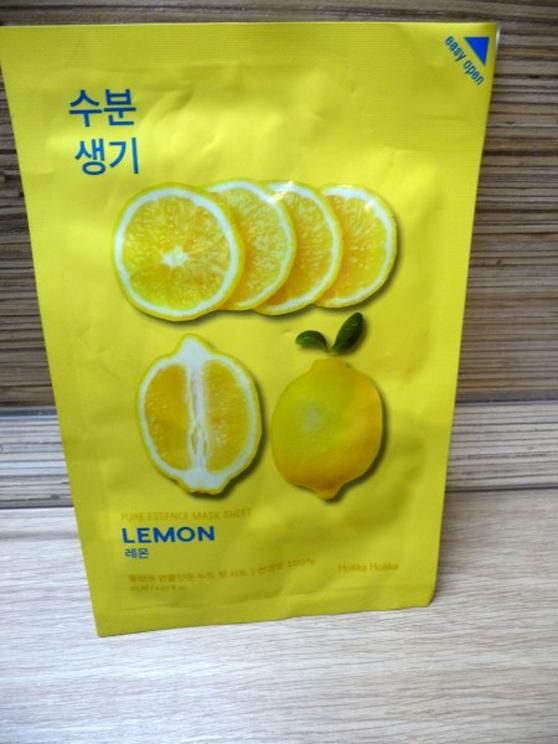lemon: (269, 356, 383, 504)
